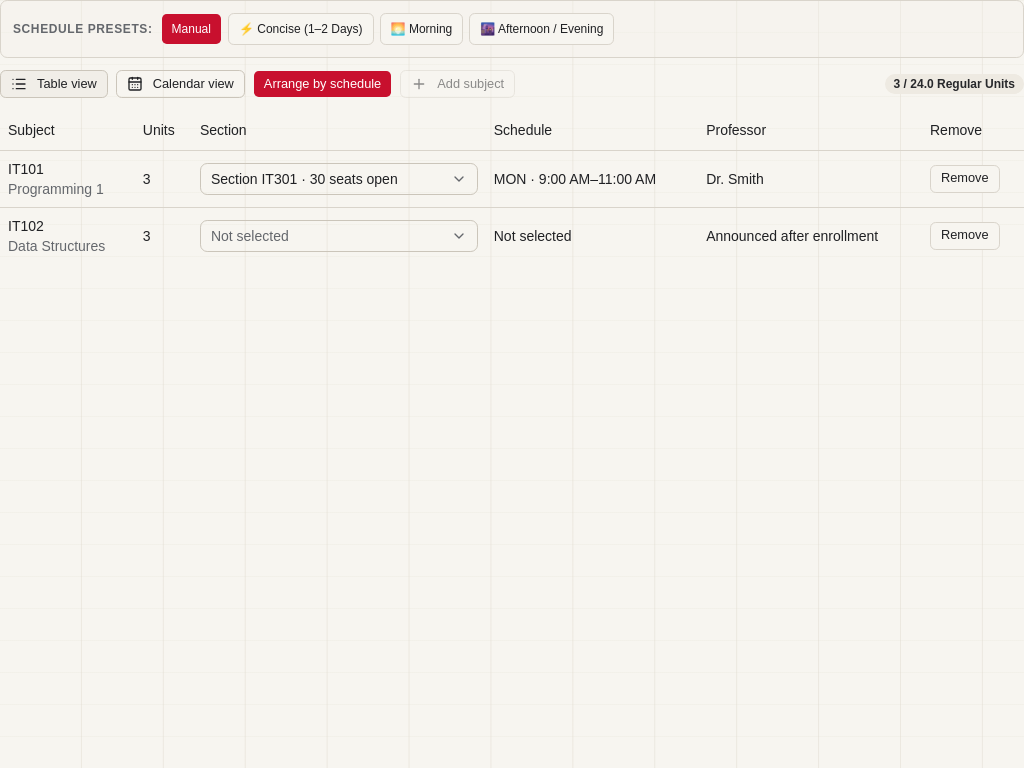
Test case: EligibleSubjectTable › toggles between Table view and Calendar view and displays selected schedule items
The image size is (1024, 768).
Expected: the table named "Eligible subjects" is shown, [0,110,1023,264]
Toggle to Calendar view
Click the radio button labelled "Calendar view": (180, 84) [116,70,245,98]
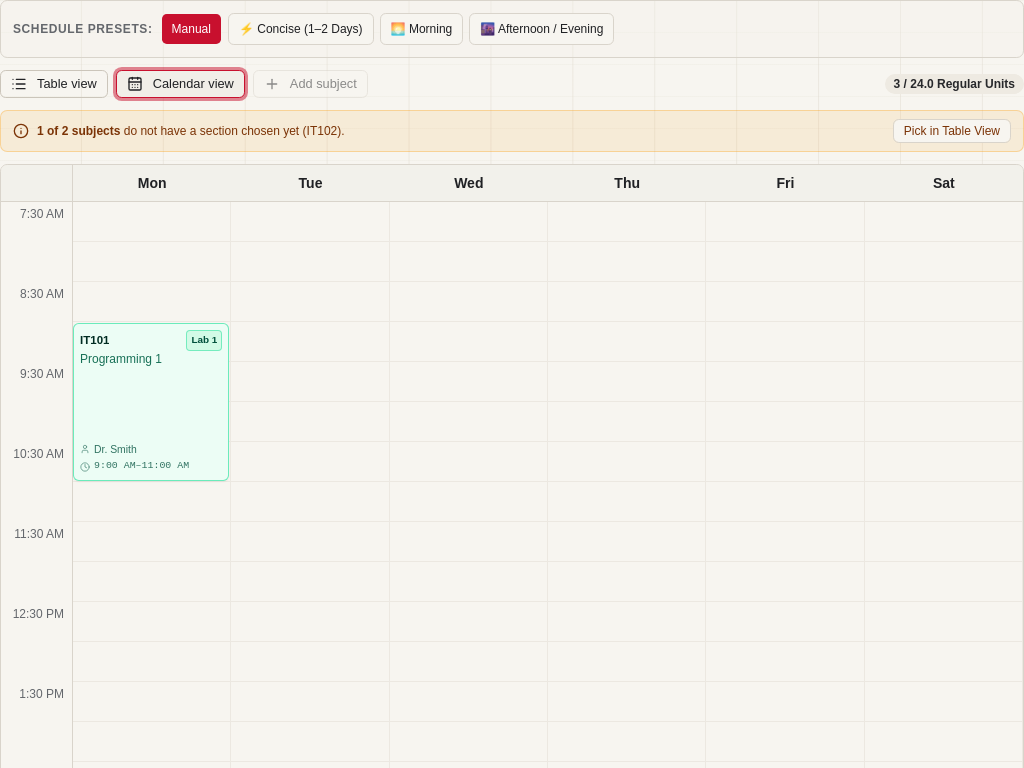
Expected: the table "Eligible subjects" is not shown
Now the text "1 of 2 subjects" is shown, box [37,124,120,138]
Now the text "1 of 2 subjects do not have a section chosen yet (IT102)." is shown, box [37,123,345,139]
Clicking "Pick in Table View" button switches back to Table view
Click the button "Pick in Table View": (952, 131) [893,119,1011,143]
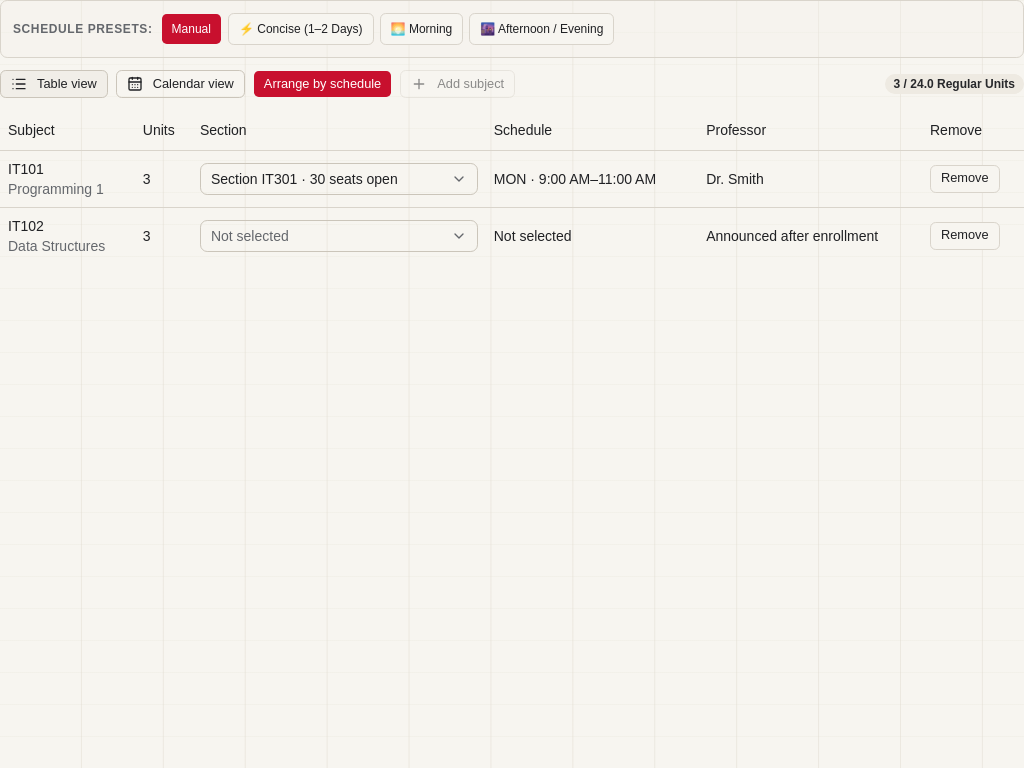
Now the table named "Eligible subjects" is shown, box [0,110,1023,264]
